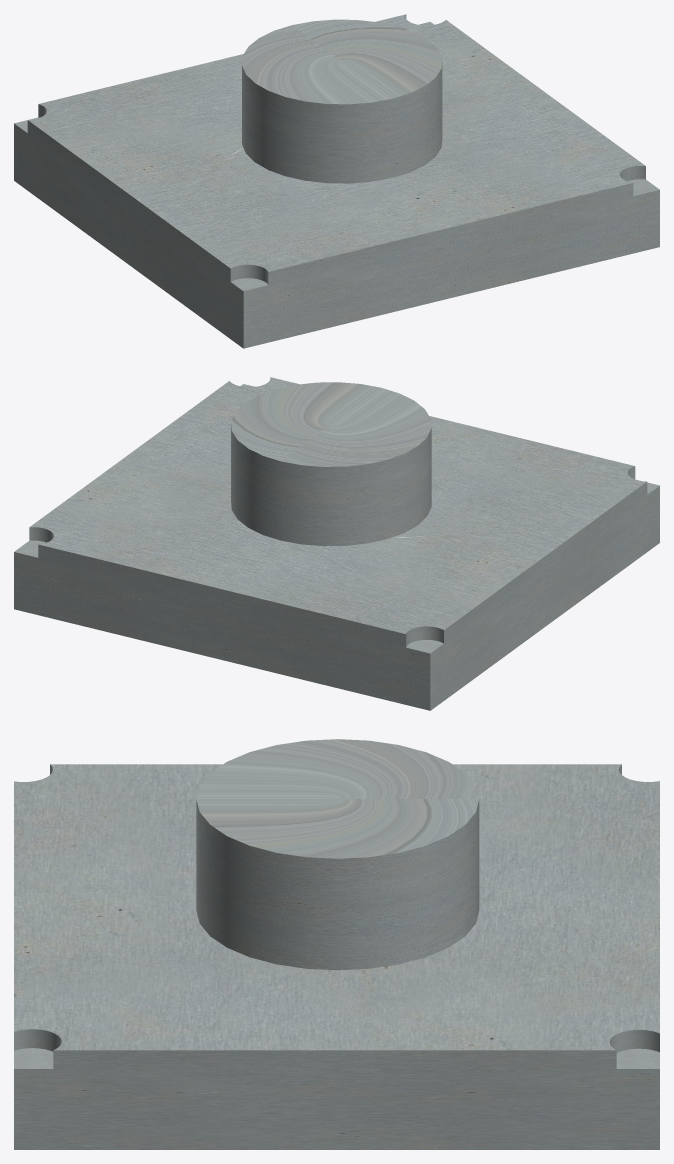
3 views of the same model, one above another, from view 1: azimuth 30°, elevation 25°; view 2: azimuth 150°, elevation 25°; view 3: azimuth 270°, elevation 25° (orthographic). The views are drawn at different scales.
Parts seen in each view (by area): view 1: dizuo, dianji; view 2: dizuo, dianji; view 3: dizuo, dianji.
Boxes of the visible parts, x1,y1,x2,y2 form: dizuo: (14, 14, 659, 348); dianji: (242, 19, 442, 183); dizuo: (14, 377, 659, 710); dianji: (231, 382, 431, 546); dizuo: (14, 764, 659, 1149); dianji: (196, 739, 479, 970).
Bounding box in the file's own units: 212 × 73.14 × 202.
Materials: 1 (1 with a texture image).
